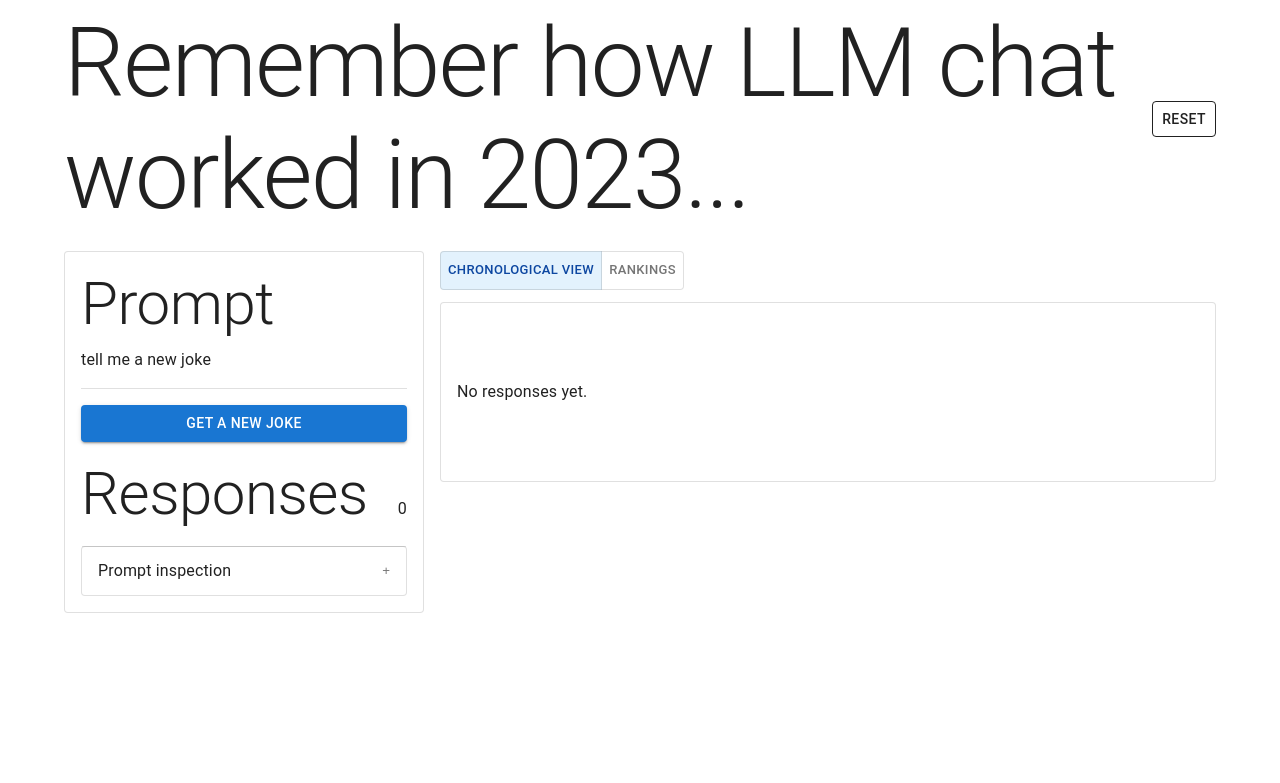
Test: Joker MVP › previews the next full prompt in an expandable inspection area
Click the button "Prompt inspection +": (165, 570) [82, 547, 406, 595]
(page scrolled)
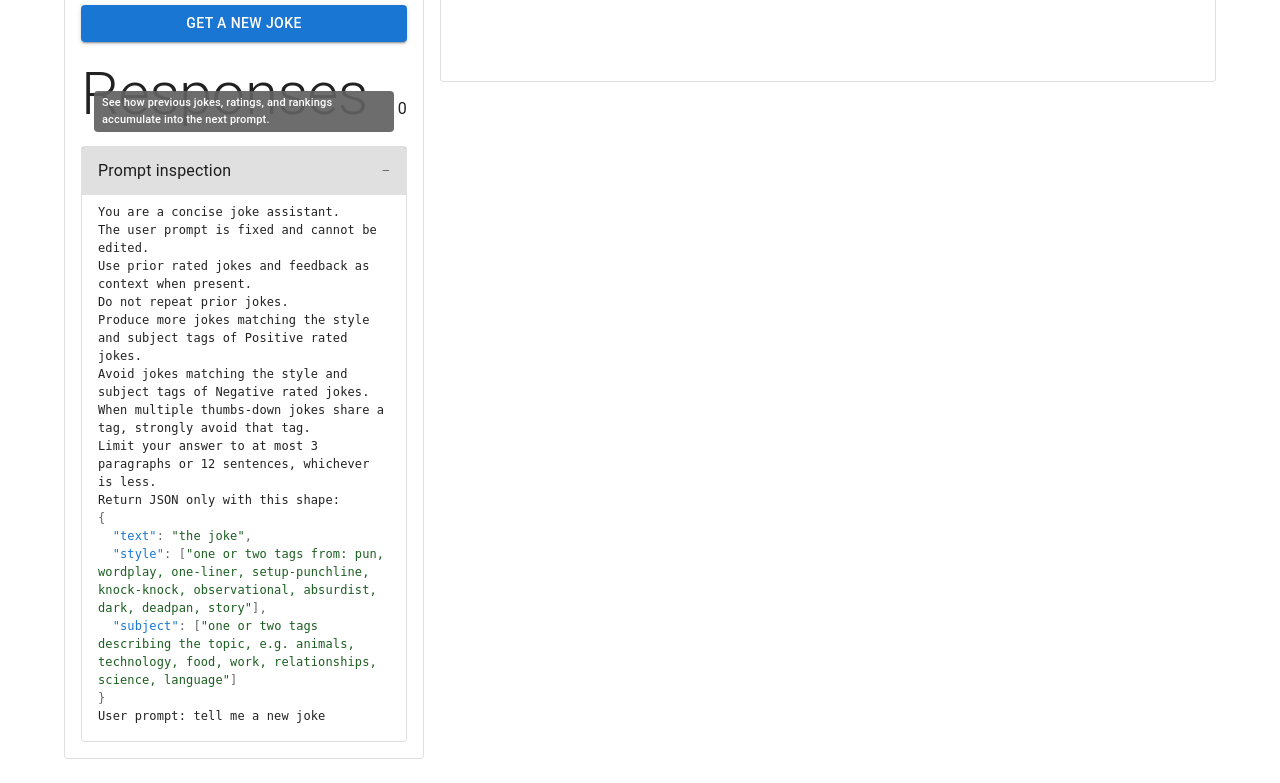
Check: the element named "See how previous jokes, ratings, and rankings accumulate into the next prompt." is shown, box [81, 146, 407, 742]
Check: the element with test id "prompt-inspection-text" shows "Return JSON only with this shape", box [98, 493, 340, 507]
Check: the element with test id "prompt-inspection-text" shows "\"style\": [\"one or two tags from:", box [98, 203, 390, 725]
